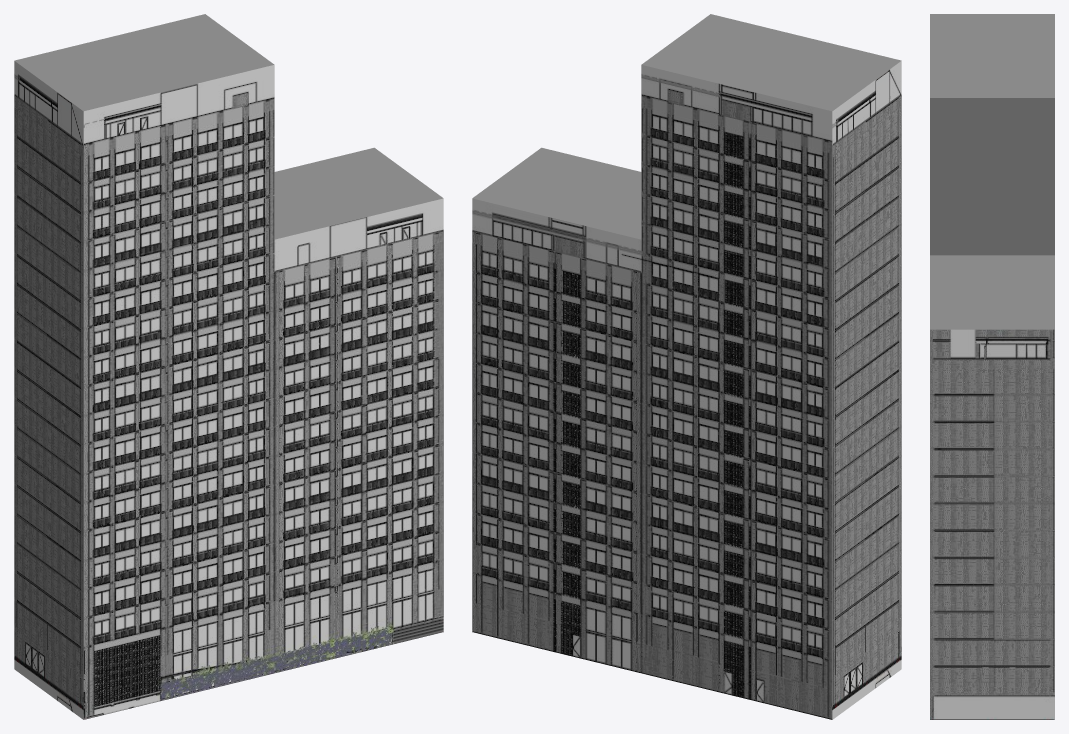
Rendered from MSH_Caja_Torre_Disponibilidad.FBX.
The picture shows the model from 3 angles, left to right: view 1: azimuth 30°, elevation 25°; view 2: azimuth 150°, elevation 25°; view 3: azimuth 270°, elevation 25°; orthographic projection. The views are drawn at different scales.
Parts seen in each view (by area): view 1: MSH_Caja_Torre_Disponibilidad; view 2: MSH_Caja_Torre_Disponibilidad; view 3: MSH_Caja_Torre_Disponibilidad.
Boxes of the visible parts, <box> form: MSH_Caja_Torre_Disponibilidad: <box>14,14,443,719</box>; MSH_Caja_Torre_Disponibilidad: <box>472,14,901,719</box>; MSH_Caja_Torre_Disponibilidad: <box>930,14,1054,719</box>.
Bounding box in the file's own units: 4200 × 6780 × 1400.
